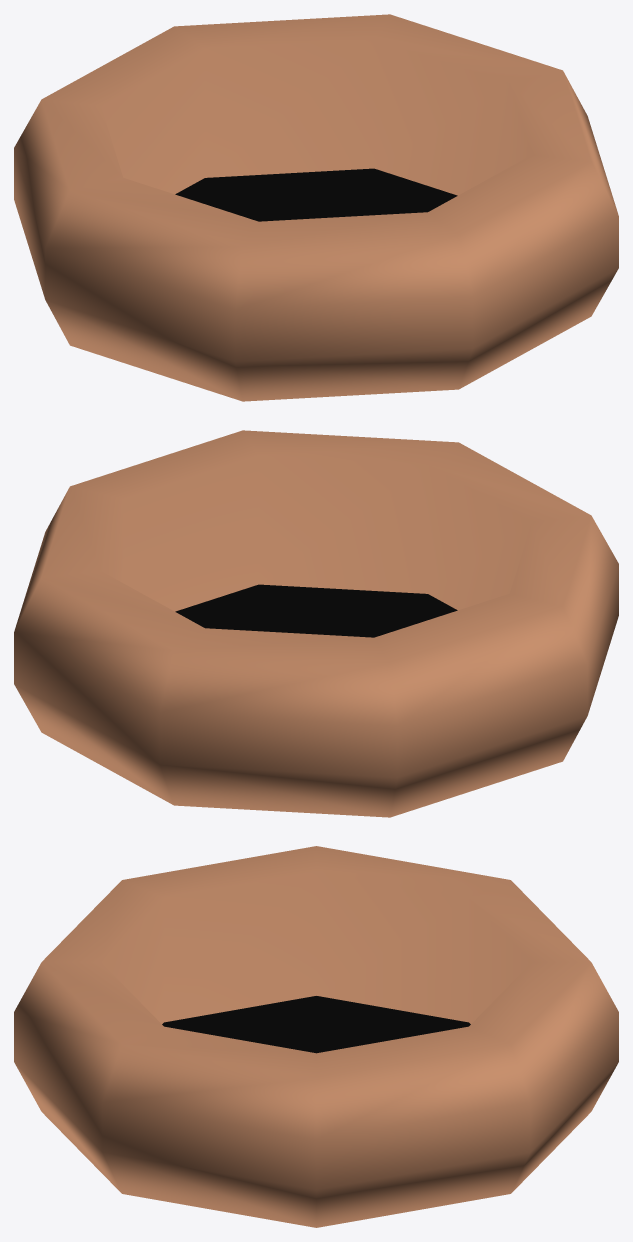
Rendered from hole.fbx.
The picture shows the model from 3 angles, top to bottom: view 1: azimuth 30°, elevation 25°; view 2: azimuth 150°, elevation 25°; view 3: azimuth 270°, elevation 25°; orthographic projection. The views are drawn at different scales.
Visible parts, largest first — view 1: Hole; view 2: Hole; view 3: Hole.
Part boxes in pixels (x1,y1,x2,y2): Hole: (14, 14, 618, 401); Hole: (14, 430, 618, 817); Hole: (14, 846, 618, 1227).
Bounding box in the file's own units: 2.2 × 0.6 × 2.2.
